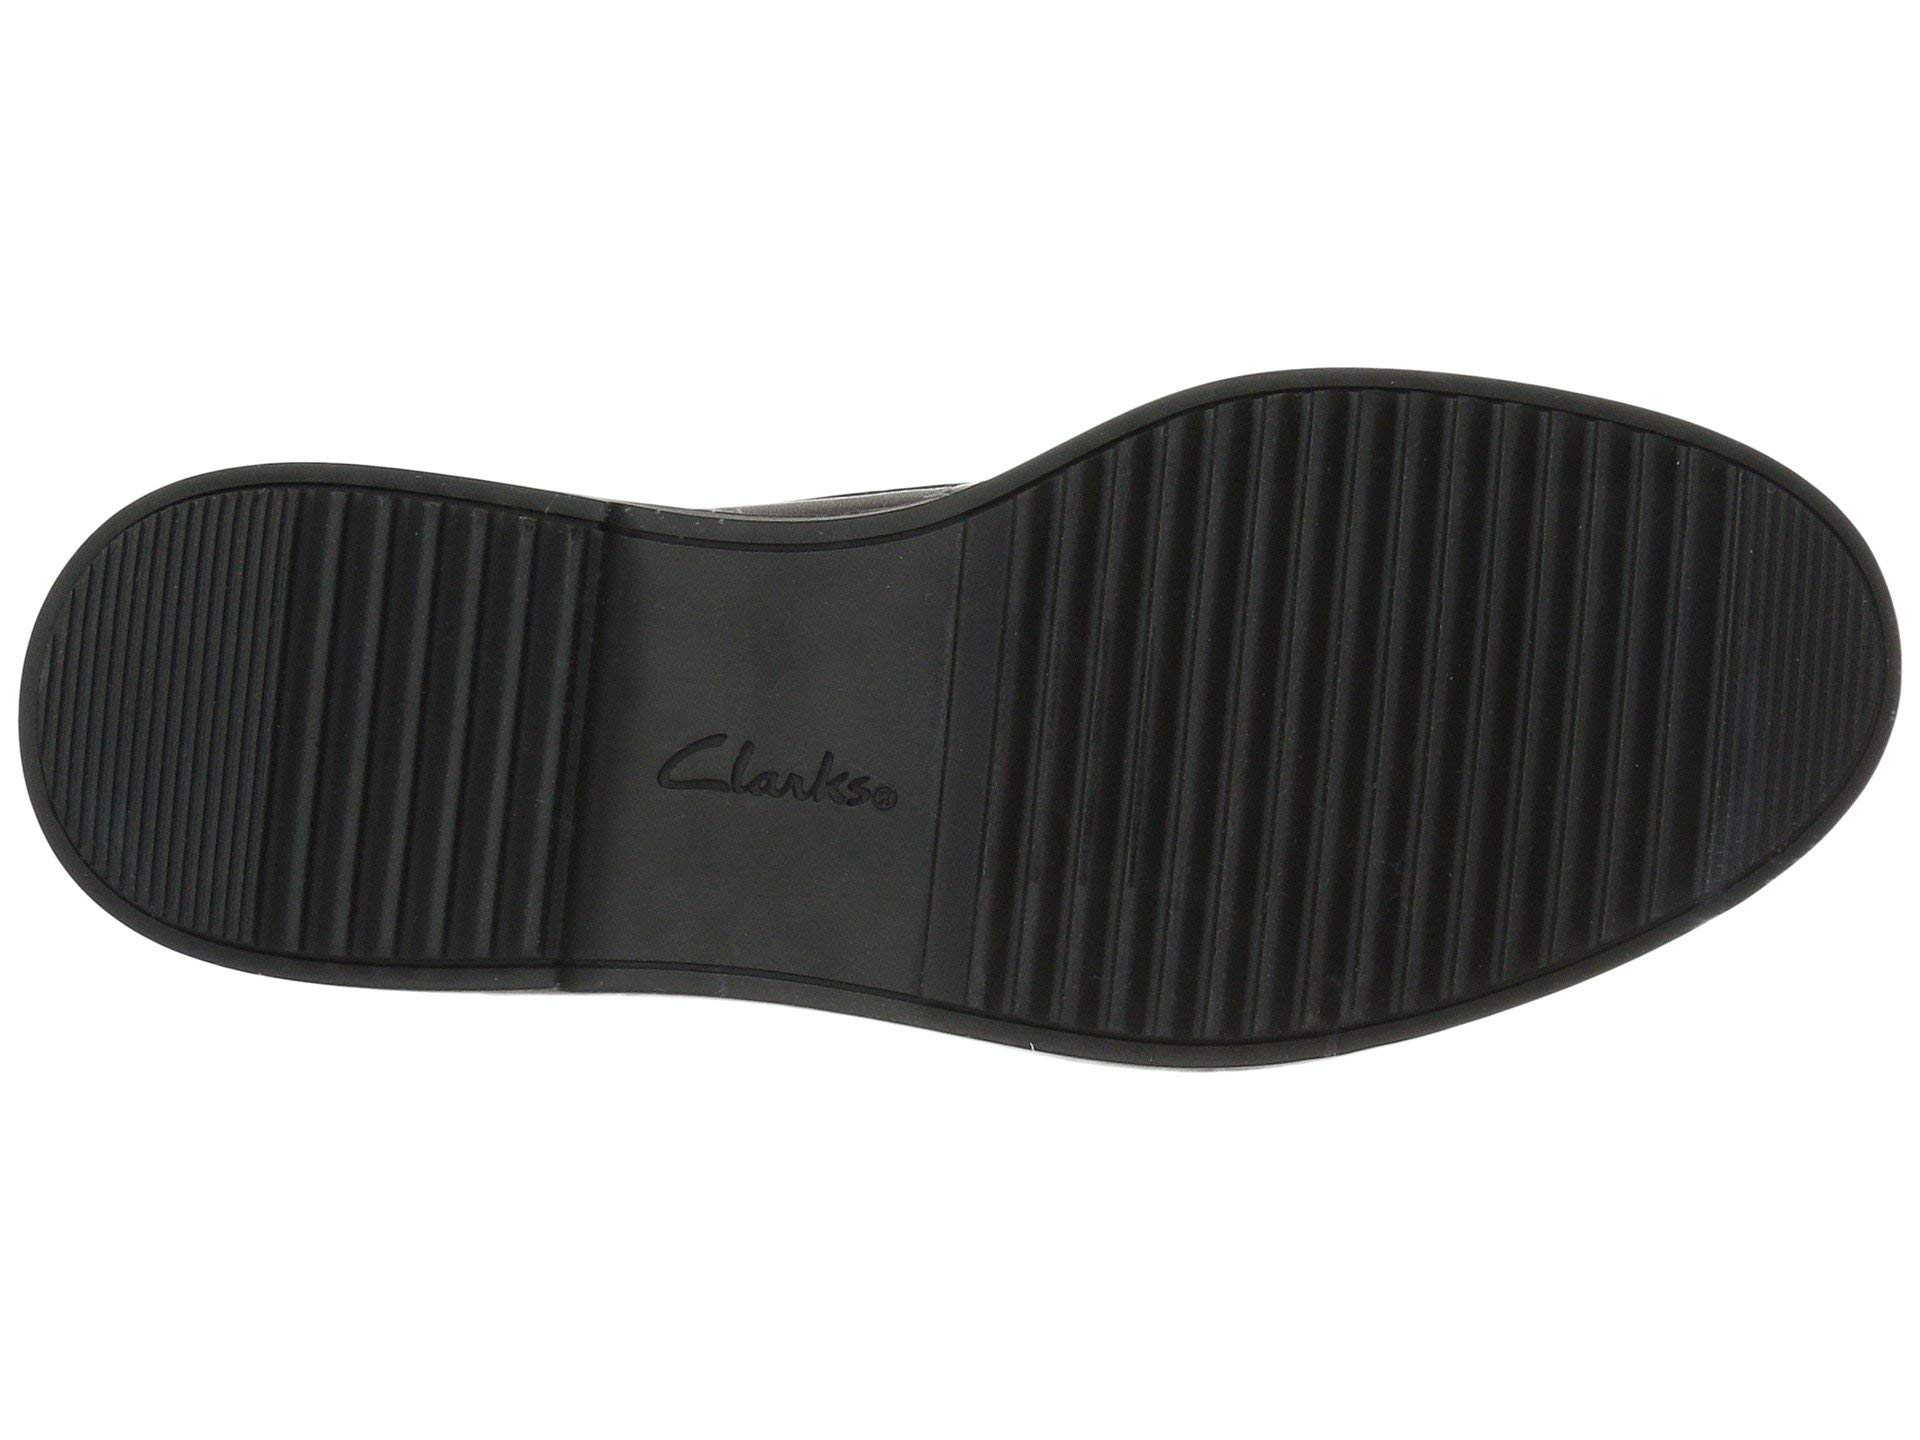circle: (655, 694, 919, 853)
line: (1082, 439, 1788, 883)
text: (655, 694, 919, 853)
